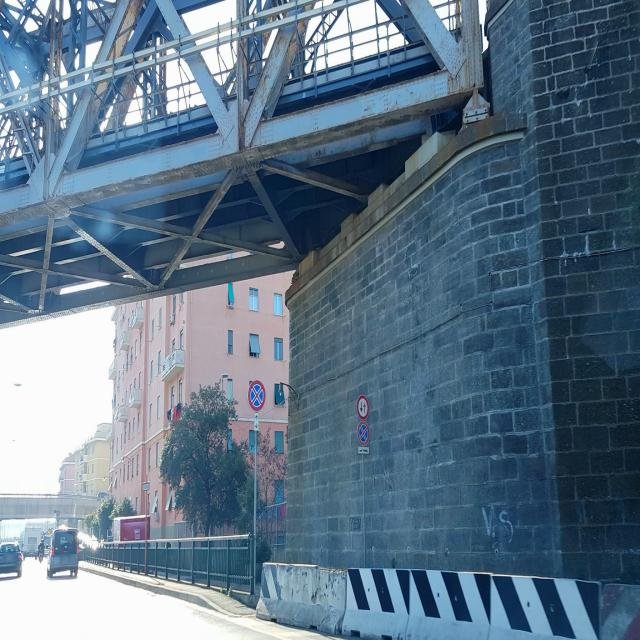car: (46, 527, 79, 579), (0, 540, 22, 580)
